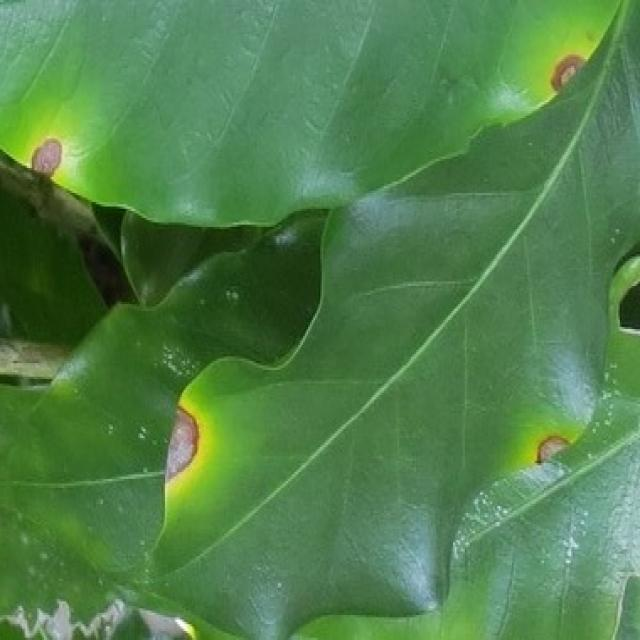Enfermedad-Mancha-de-hierro: (145, 0, 640, 640)
